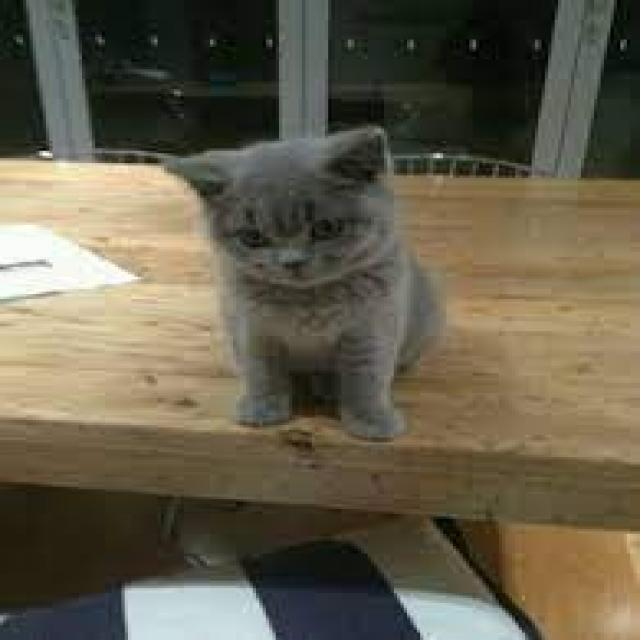Cat: (157, 117, 447, 447)
